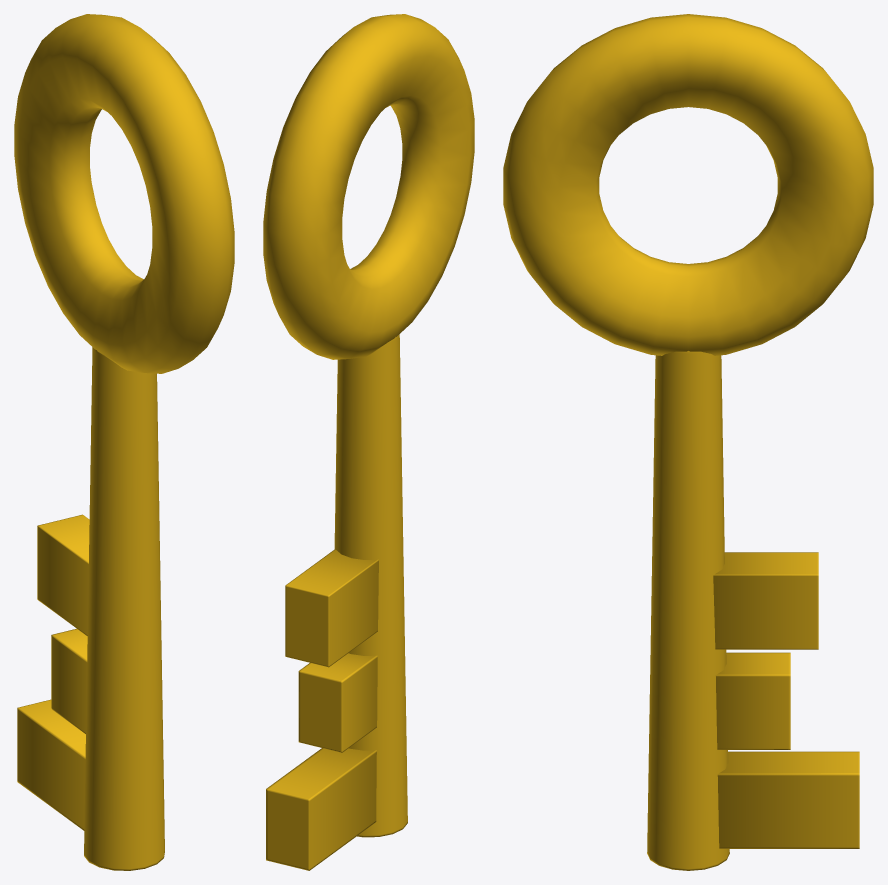
File: key.glb
3 renders of one model, left to right at view 1: azimuth 30°, elevation 25°; view 2: azimuth 150°, elevation 25°; view 3: azimuth 270°, elevation 25°, orthographic. The views are drawn at different scales.
Visible parts, largest first — view 1: Key; view 2: Key; view 3: Key.
Boxes of the visible parts, bbox=[...] form: Key: bbox=[14, 14, 234, 870]; Key: bbox=[263, 14, 474, 870]; Key: bbox=[503, 14, 873, 870].
Bounding box in the file's own units: 0.0996 × 1.11 × 0.4462.
